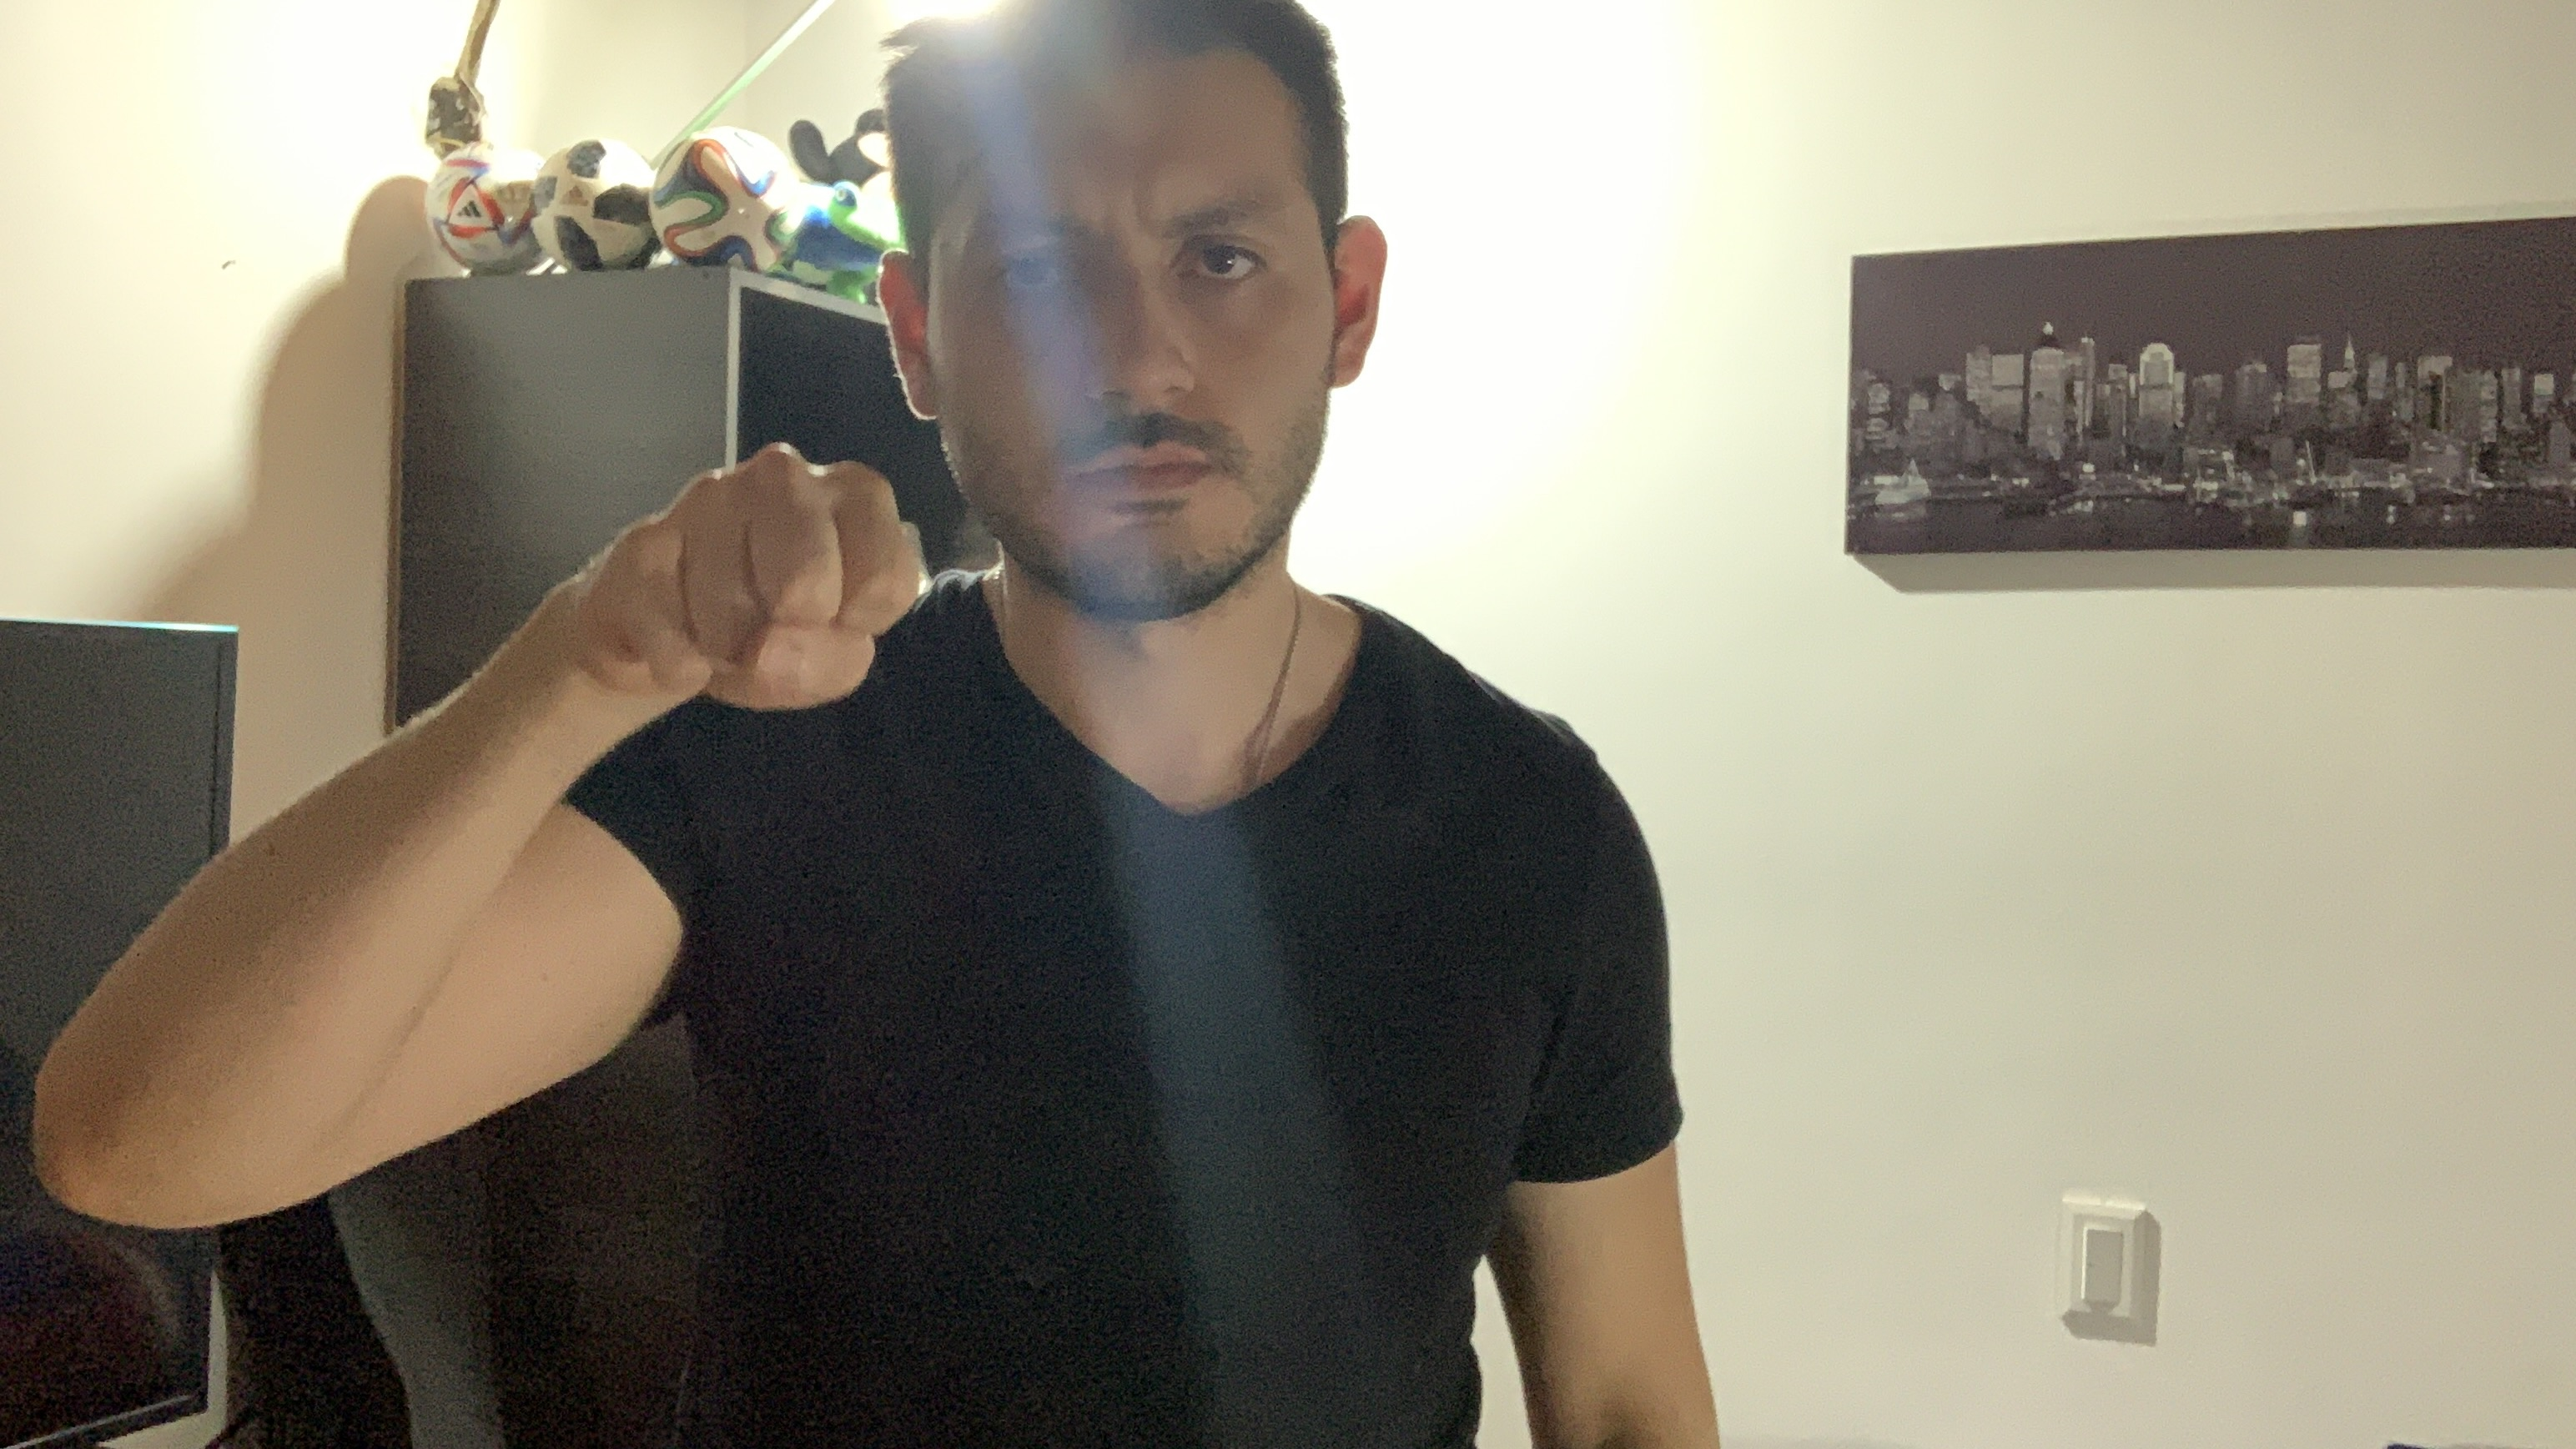Yes: (559, 430, 934, 725)
